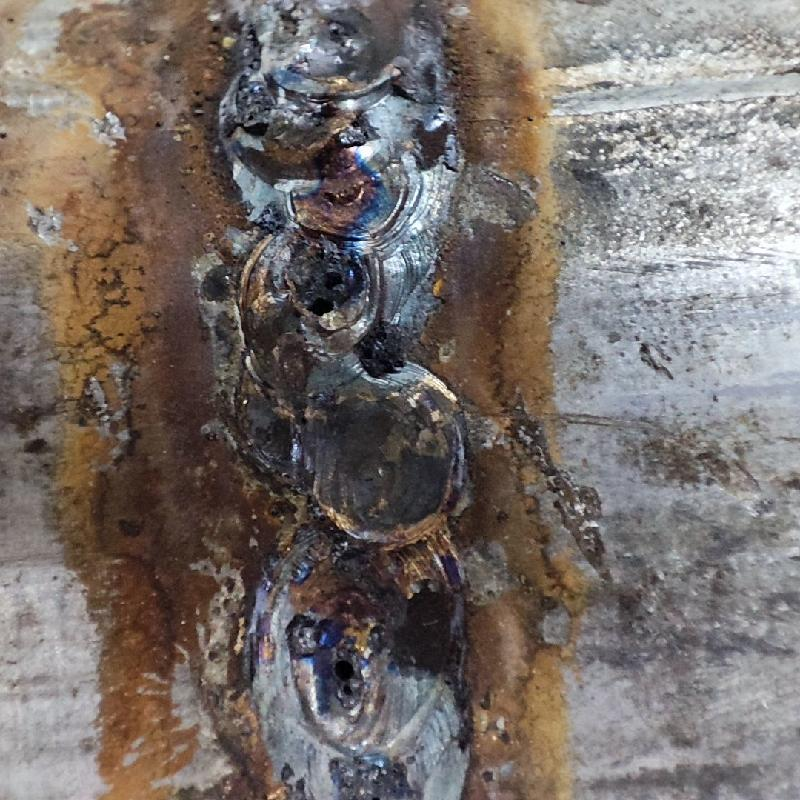Surface_pores: (292, 257, 367, 329), (312, 642, 377, 714)
